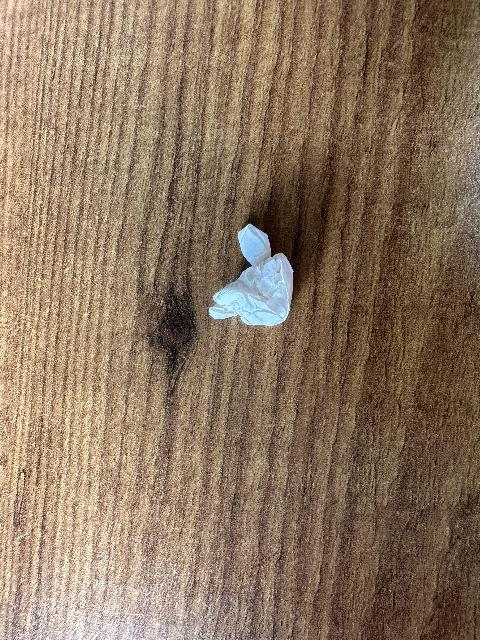Kagit: (206, 221, 298, 331)
